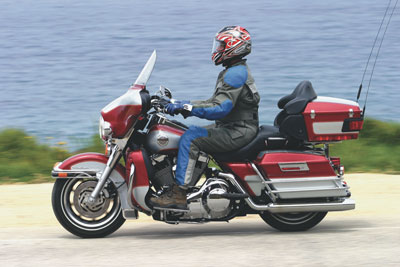helmet: (199, 18, 264, 96)
